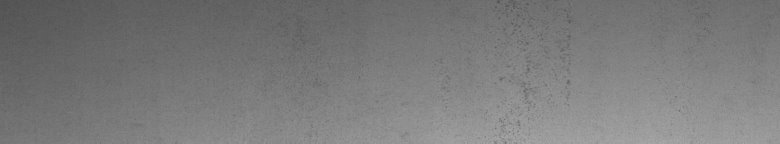ib: (495, 15, 571, 132)
